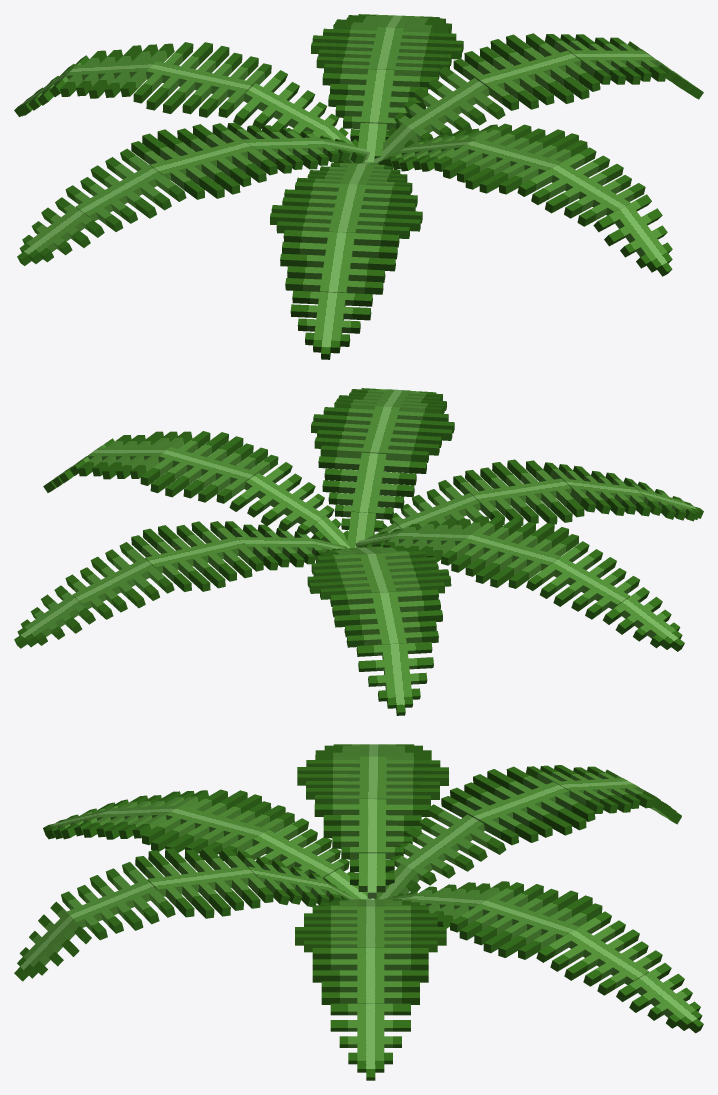
Rendered from Açaizeiro.fbx.
The picture shows the model from 3 angles, top to bottom: view 1: azimuth 30°, elevation 25°; view 2: azimuth 150°, elevation 25°; view 3: azimuth 270°, elevation 25°; orthographic projection. The views are drawn at different scales.
Visible parts, largest first — view 1: Açaizeiro-0; view 2: Açaizeiro-0; view 3: Açaizeiro-0.
Boxes of the visible parts, bbox=[...] form: Açaizeiro-0: bbox=[14, 14, 703, 359]; Açaizeiro-0: bbox=[14, 388, 703, 715]; Açaizeiro-0: bbox=[14, 744, 703, 1080].
Size of the model in its own units: 887 by 109 by 773.
